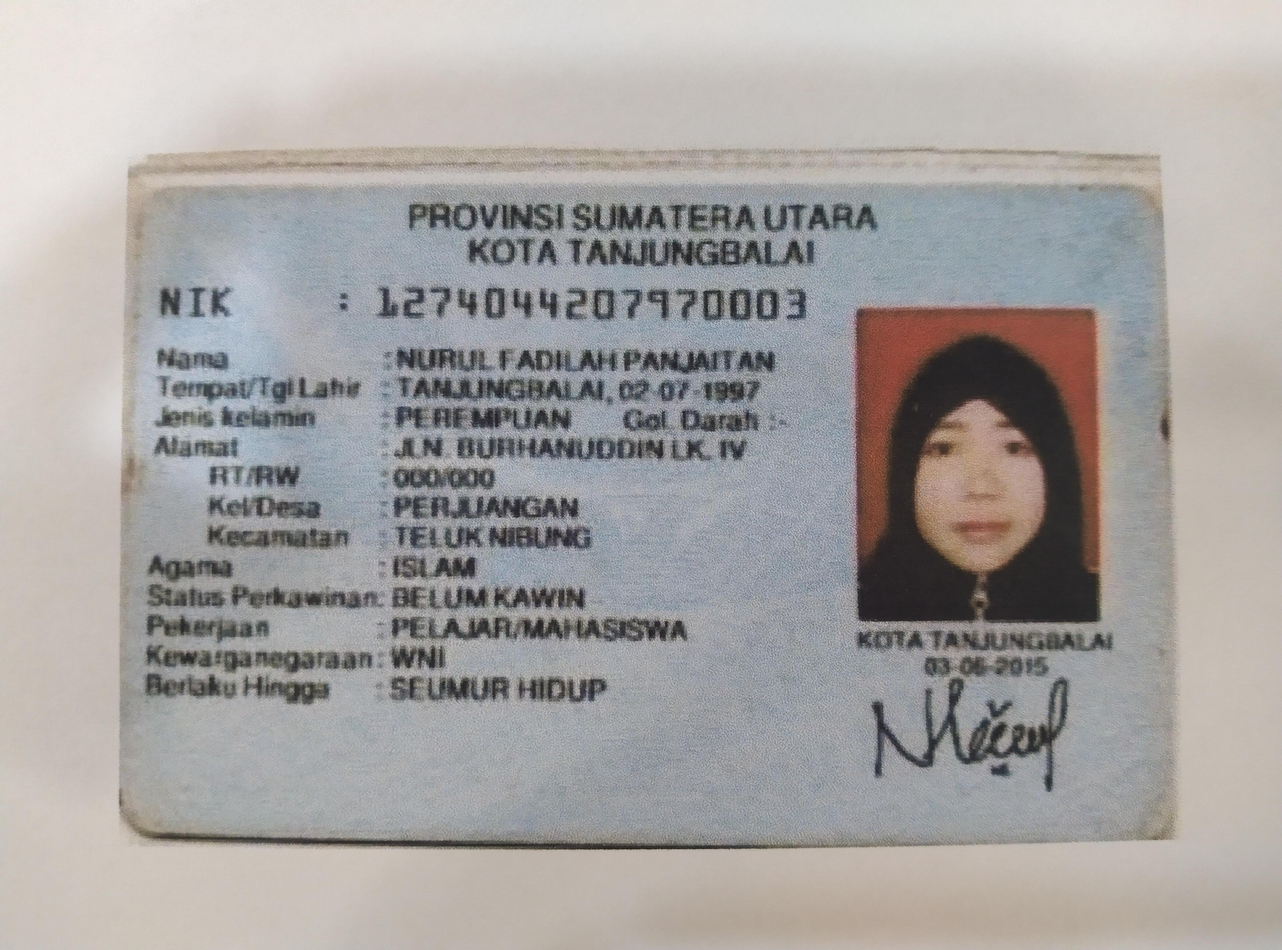ID-card: (122, 186, 1170, 828)
